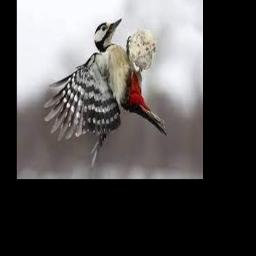Woodpecker: (44, 18, 167, 166)
